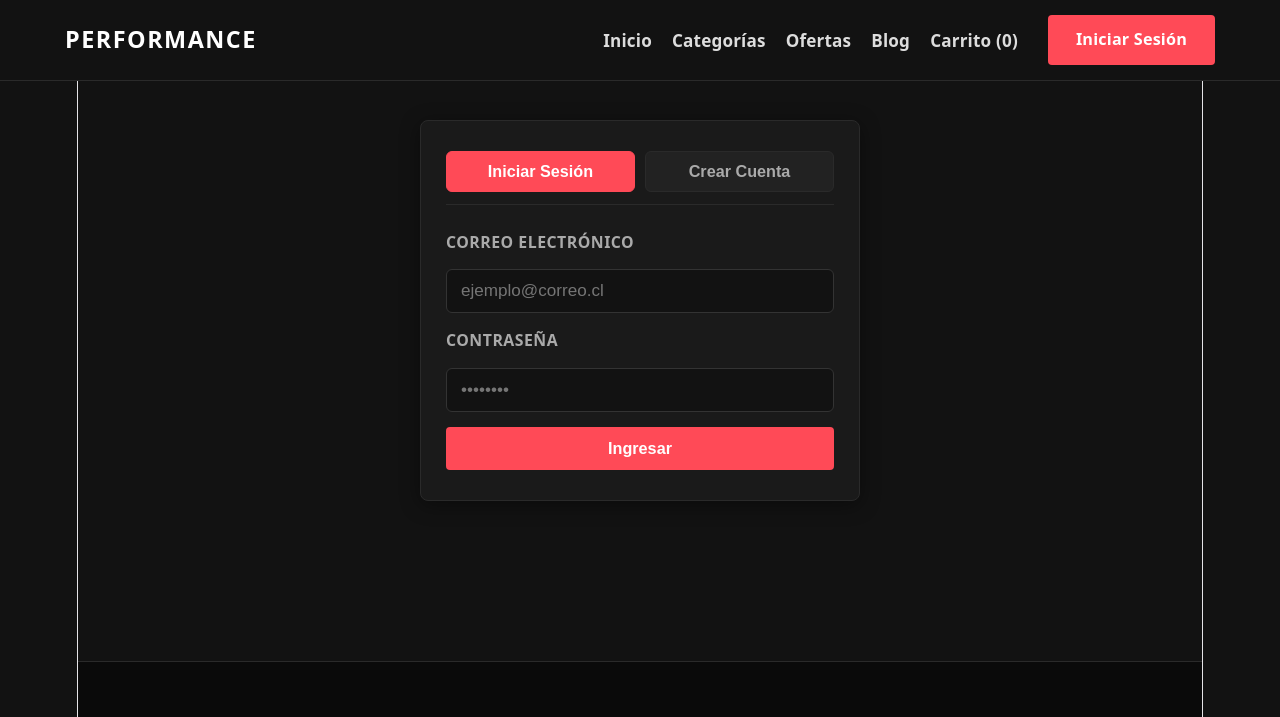
Test: Shared session (ProveedorSesion) › updates the Navbar right after logging in, without reloading
The width and height of the screenshot is (1280, 717).
In the field labelled "Correo Electrónico": (640, 291) [446,269,834,313], type "ana@correo.cl"
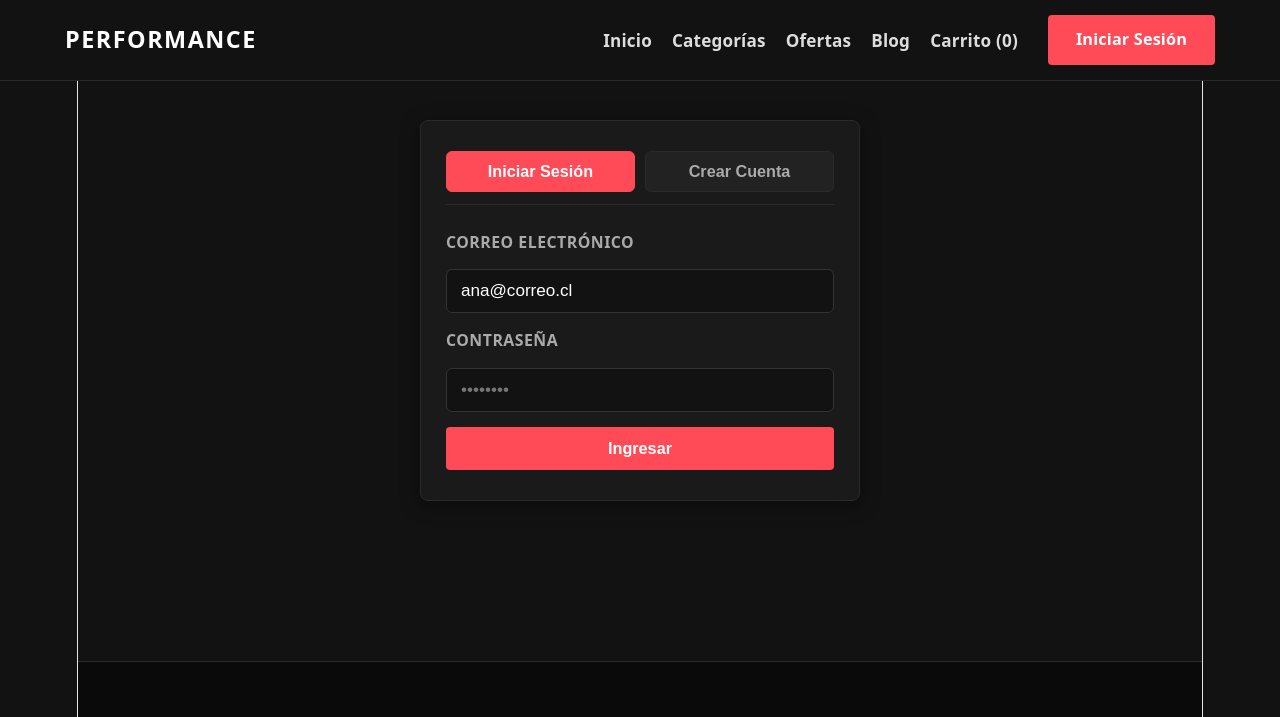
In the password field labelled "Contraseña": (640, 390) [446,368,834,412], type "secreto1"
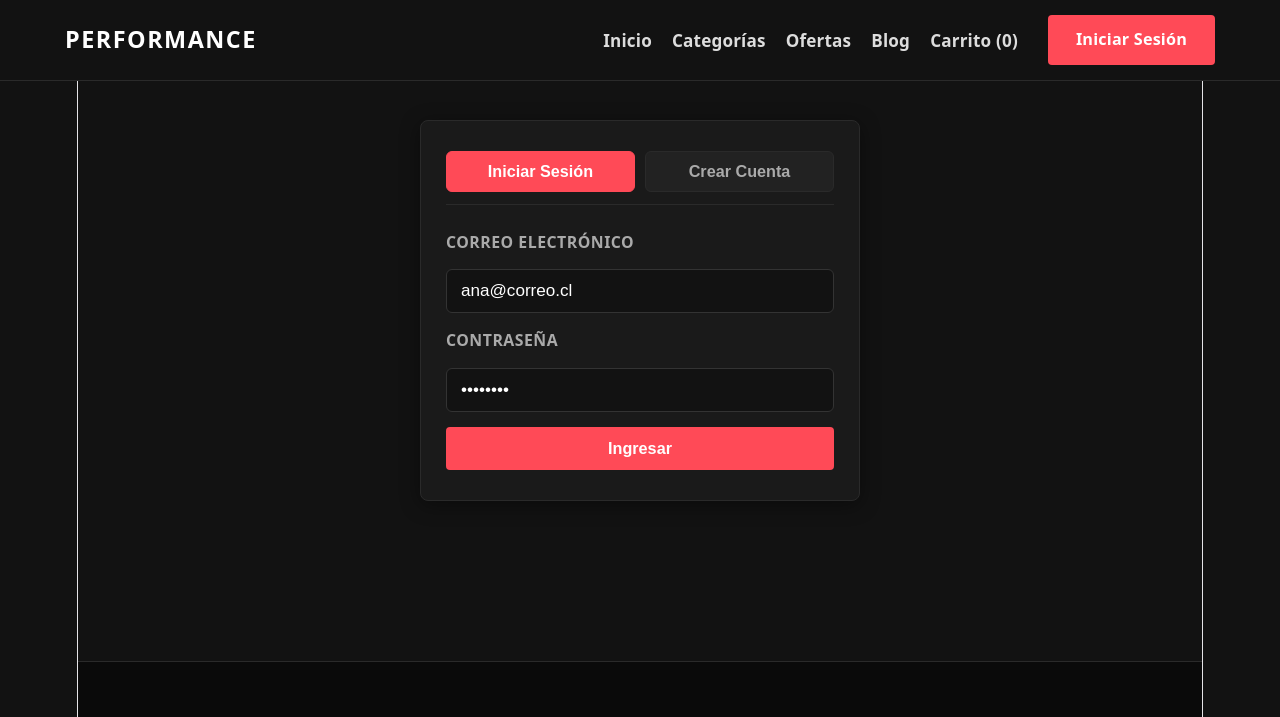
Click the button "Ingresar": (640, 448) [446,427,834,470]
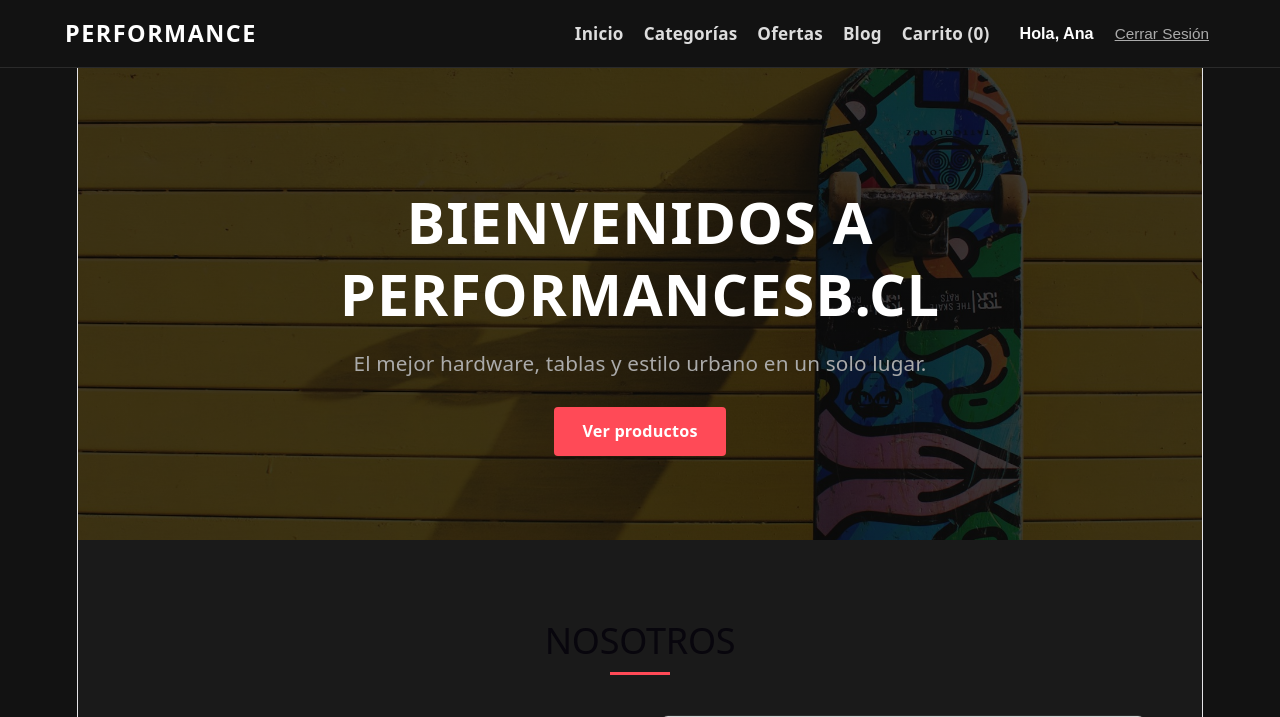
expect the button "Hola, Ana" is shown: met, box [1020,24,1094,43]
expect the link "Iniciar Sesión" is gone: met
